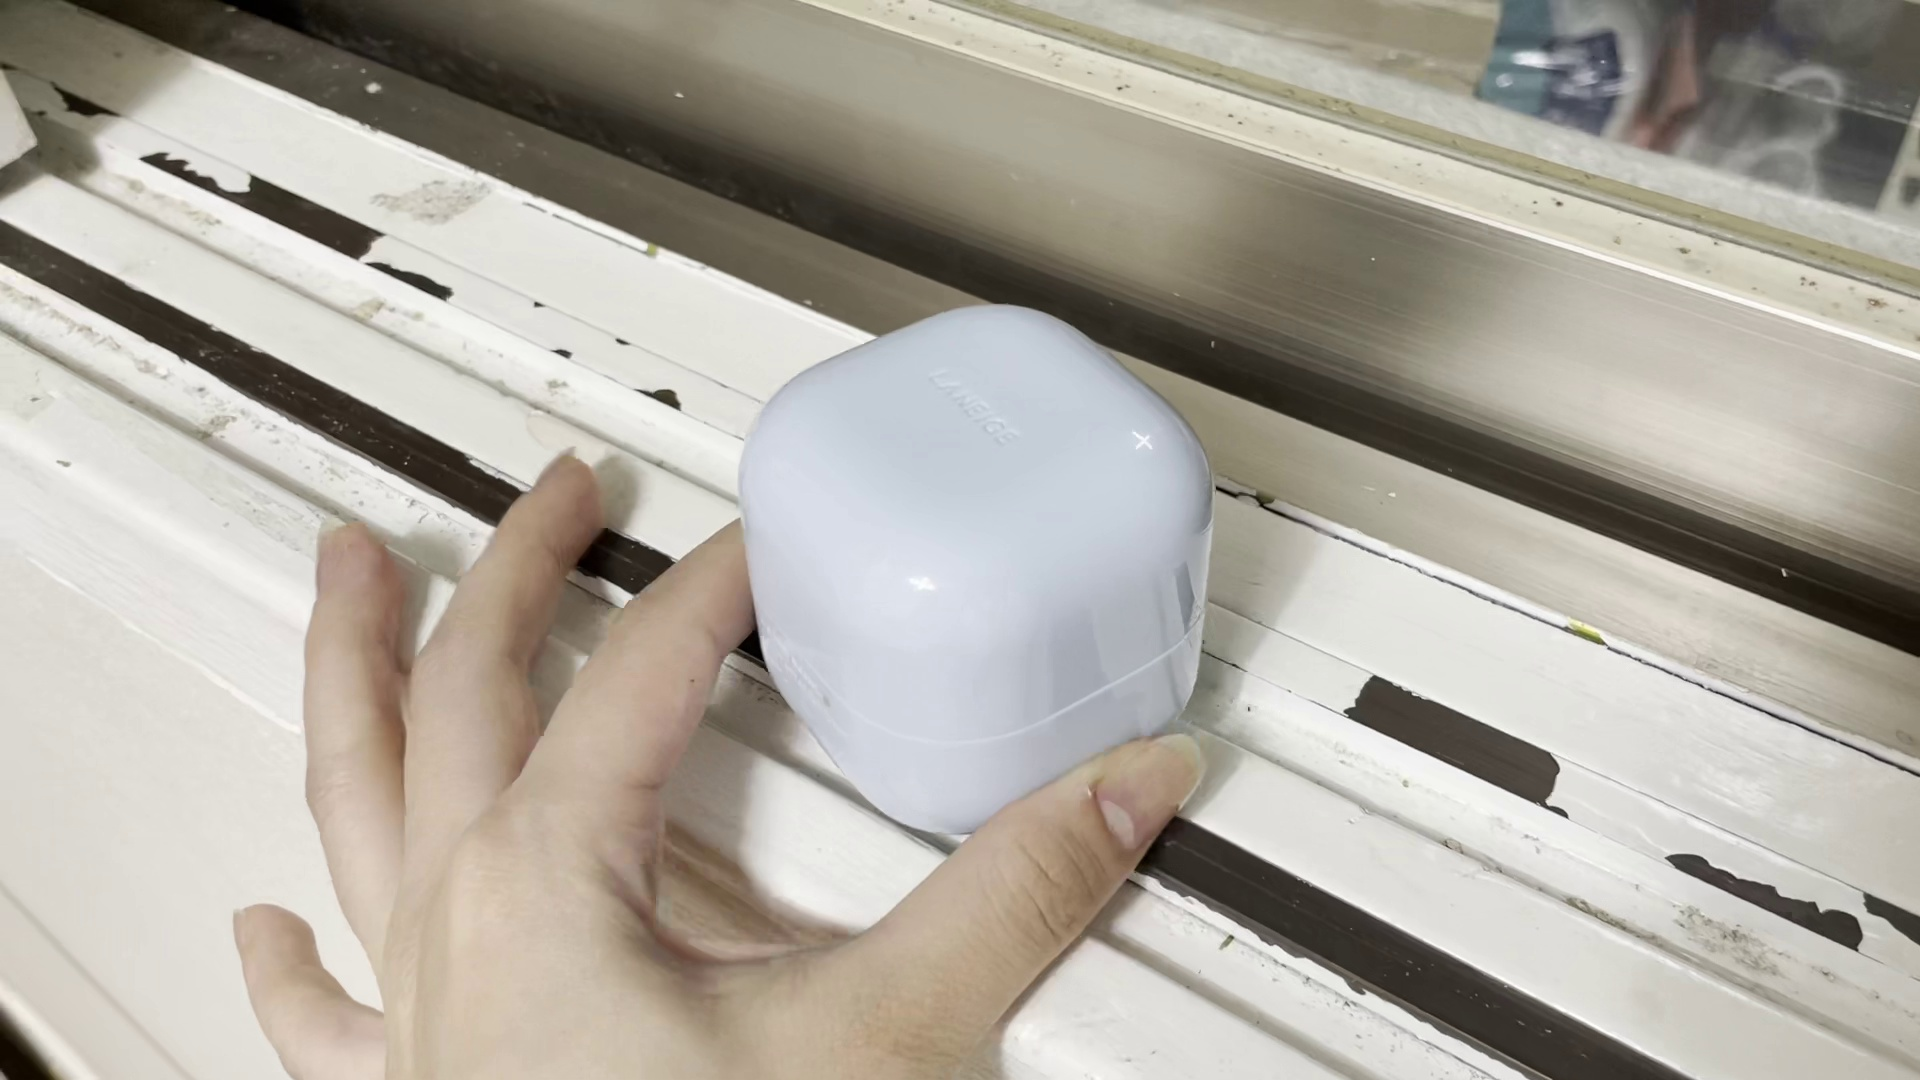cream: (740, 303, 1211, 833)
